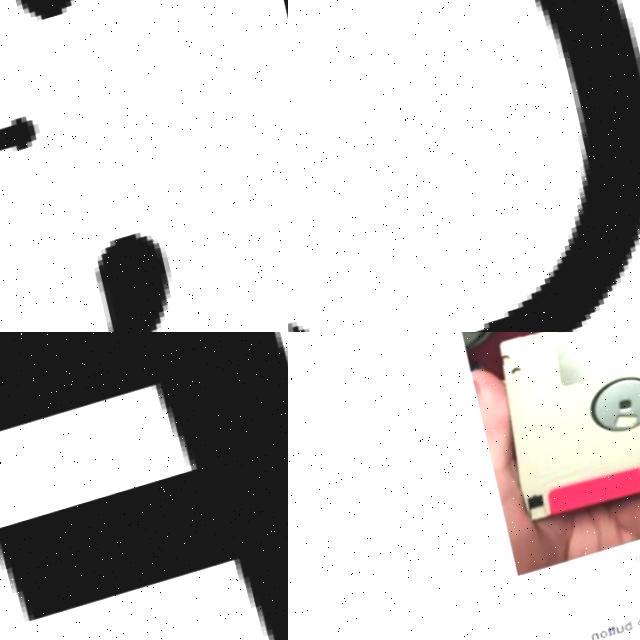3: (0, 0, 214, 332)
B: (624, 623, 635, 637)
C: (470, 0, 640, 332)
E: (636, 558, 640, 568)
F: (0, 332, 288, 640)
N: (592, 636, 602, 640)
O: (601, 634, 609, 640)
T: (609, 632, 615, 640), (613, 631, 618, 640)
U: (618, 629, 628, 639)
